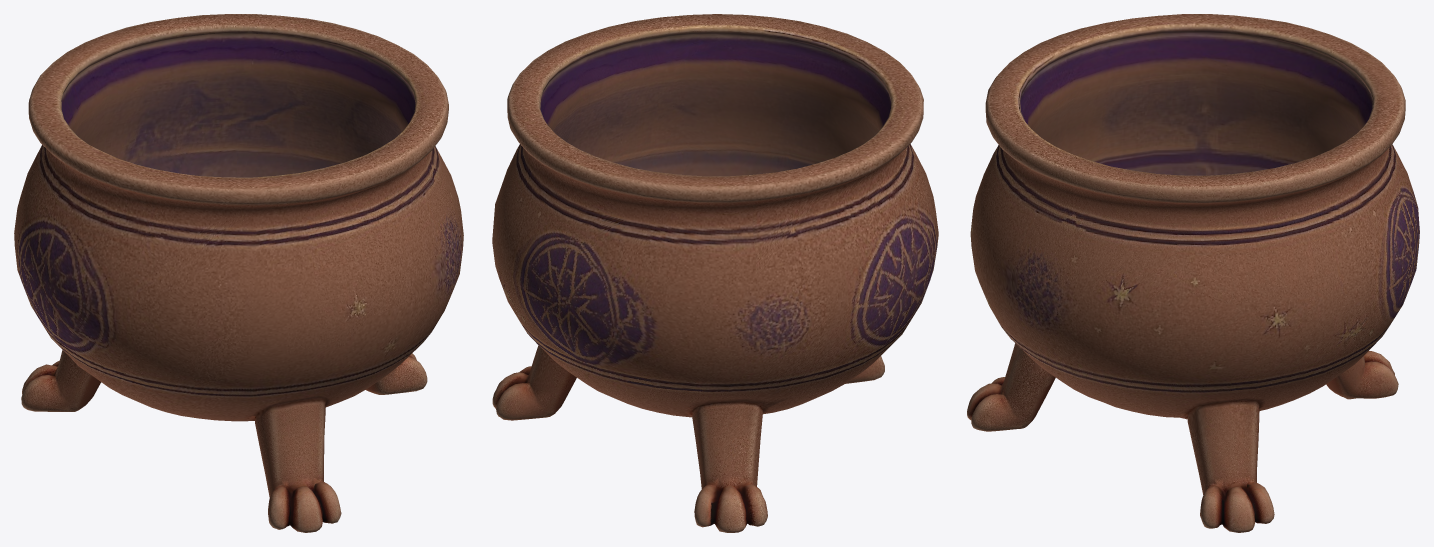
File: tripo_convert_ed6677da-fe8d-4653-af99-c04b9e9ad40c.fbx
3 renders of one model, left to right at view 1: azimuth 30°, elevation 25°; view 2: azimuth 150°, elevation 25°; view 3: azimuth 270°, elevation 25°, orthographic.
Parts seen in each view (by area): view 1: tripo_node_ed6677da; view 2: tripo_node_ed6677da; view 3: tripo_node_ed6677da.
Boxes of the visible parts, x1=… form: tripo_node_ed6677da: x1=14, y1=14, x2=463, y2=532; tripo_node_ed6677da: x1=492, y1=14, x2=938, y2=532; tripo_node_ed6677da: x1=967, y1=14, x2=1419, y2=532.
Size of the model in its own units: 0.998 by 0.8184 by 0.998.
1 material, 1 textured.
